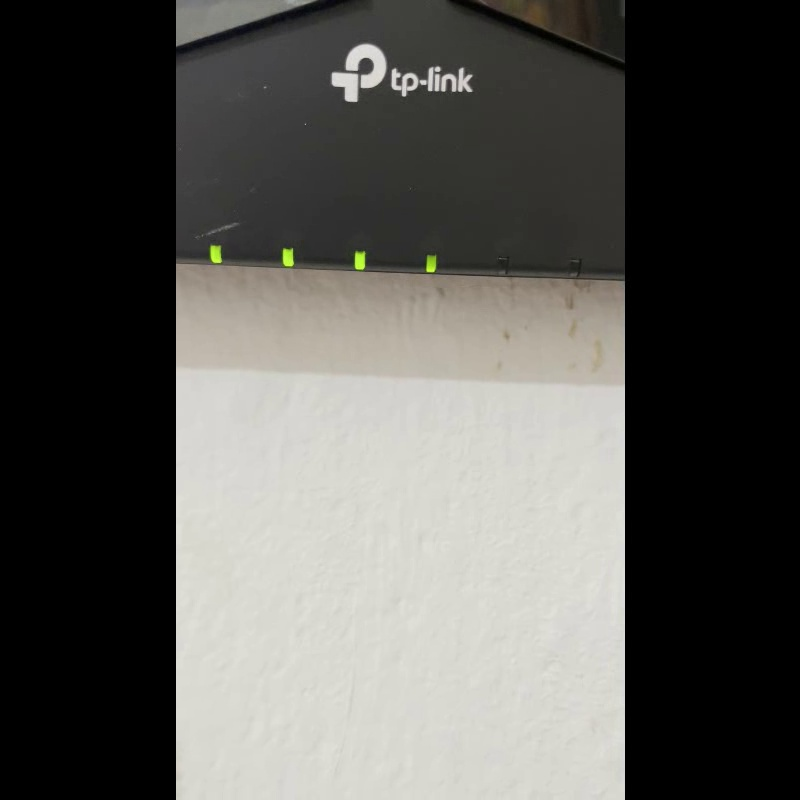off: (568, 259, 581, 276), (497, 255, 507, 273)
on_green: (425, 253, 436, 272), (282, 247, 293, 266), (354, 251, 365, 270), (210, 244, 221, 262)
